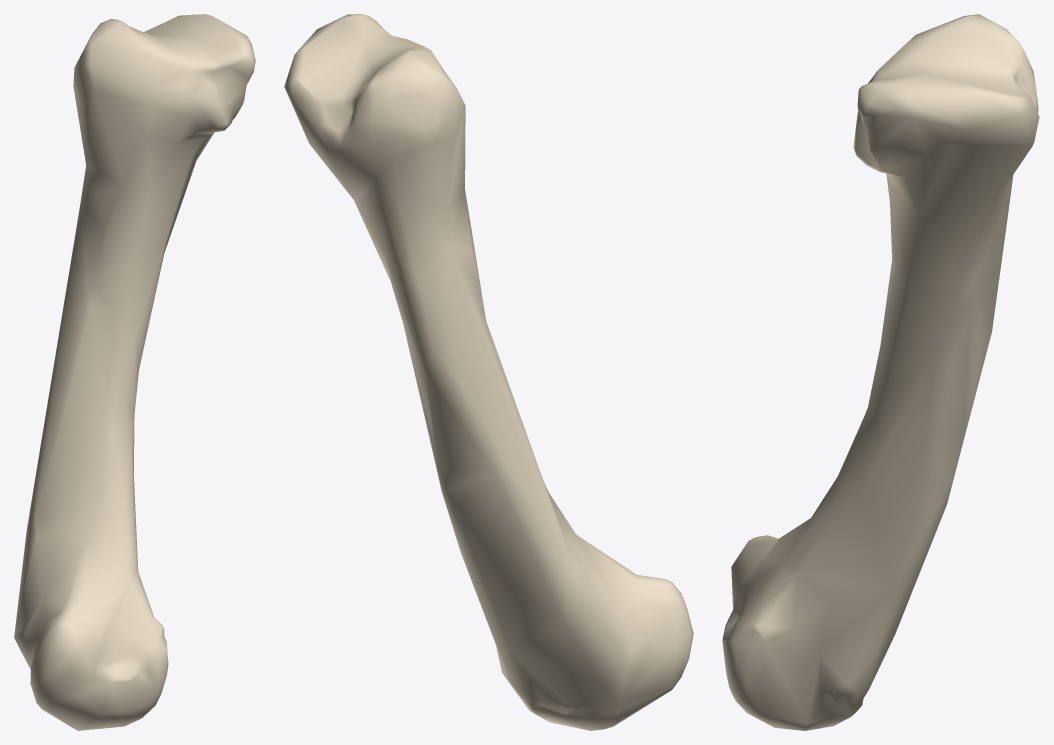
File: second-metacarpal-bone-r.glb
The picture shows the model from 3 angles, left to right: view 1: azimuth 30°, elevation 25°; view 2: azimuth 150°, elevation 25°; view 3: azimuth 270°, elevation 25°; orthographic projection. The views are drawn at different scales.
Visible parts, largest first — view 1: Second metacarpal bone.r; view 2: Second metacarpal bone.r; view 3: Second metacarpal bone.r.
Boxes of the visible parts, x1=… form: Second metacarpal bone.r: x1=14, y1=14, x2=255, y2=730; Second metacarpal bone.r: x1=284, y1=14, x2=693, y2=730; Second metacarpal bone.r: x1=722, y1=14, x2=1039, y2=730.
Bounding box in the file's own units: 0.0321 × 0.0705 × 0.0267.
